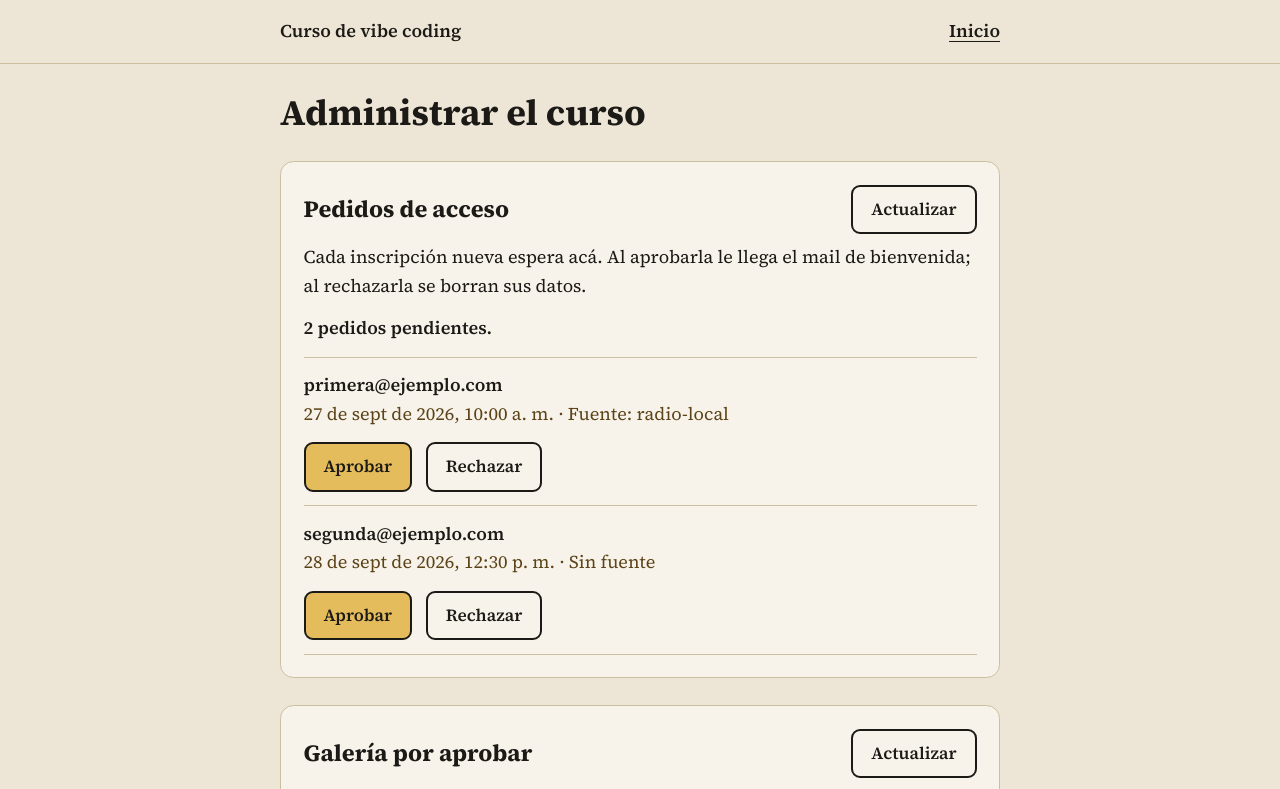
it: Admin: pedidos de acceso › aprobar manda el POST y la lista se actualiza
Click the button "Aprobar" below "primera@ejemplo.com".
click(358, 467)  # box left=304, top=442, right=412, bottom=492
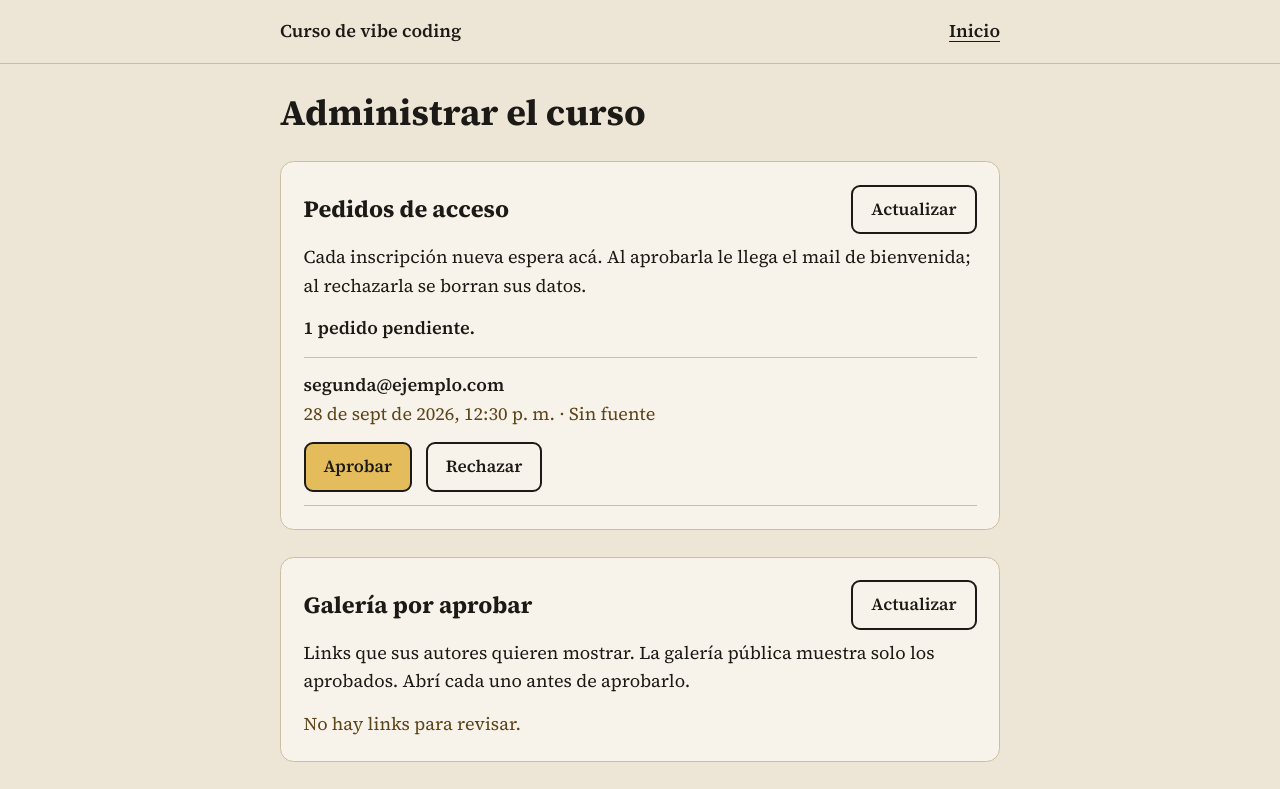
expect the text "segunda@ejemplo.com" is shown: met, box left=304, top=372, right=504, bottom=397
expect the text "primera@ejemplo.com" is gone: met
expect the text "1 pedido pendiente." is shown: met, box left=304, top=315, right=475, bottom=340
